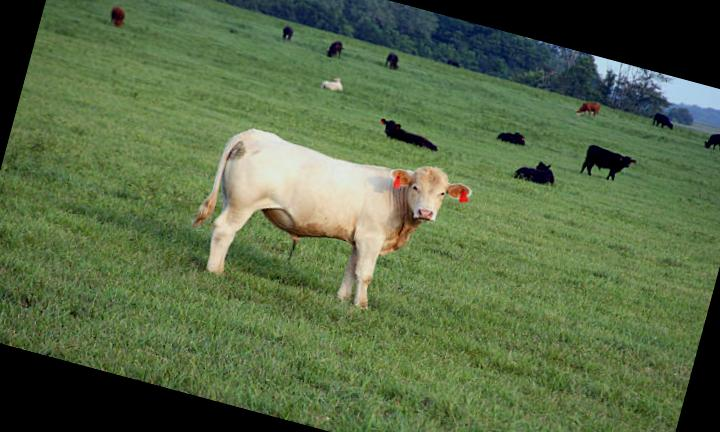Charolais: (195, 129, 472, 306)
